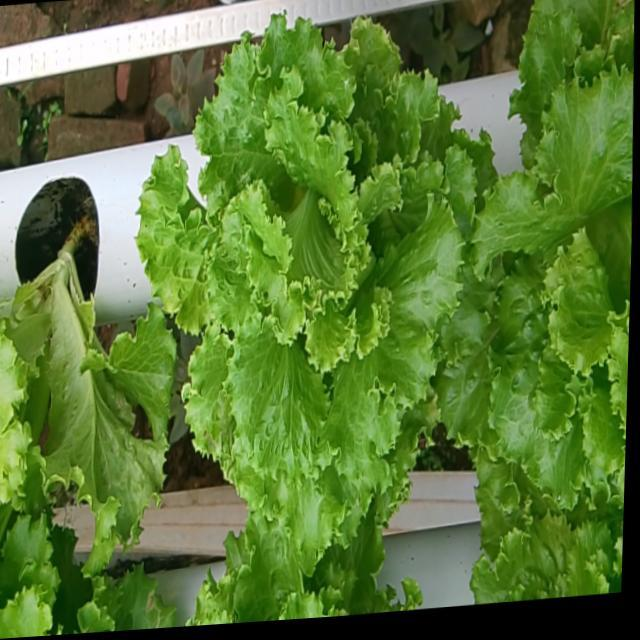Mature: (129, 0, 467, 540), (431, 45, 633, 498)
